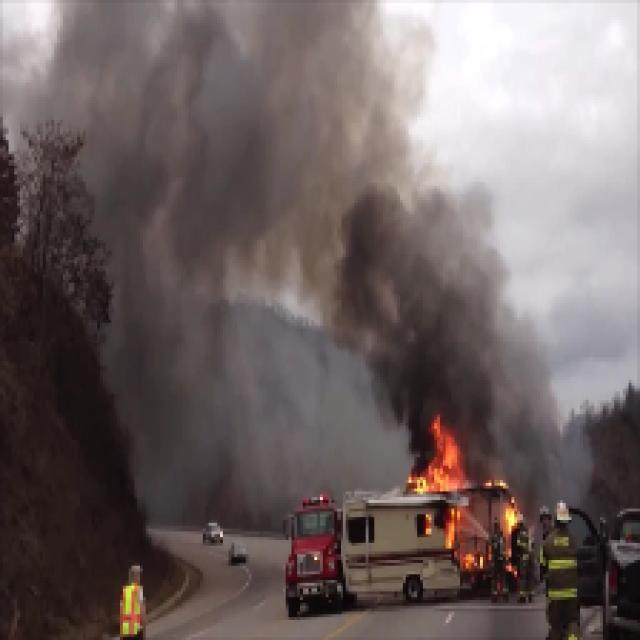Fire: (412, 429, 459, 497)
Smoke: (93, 37, 401, 254), (370, 270, 502, 416)
